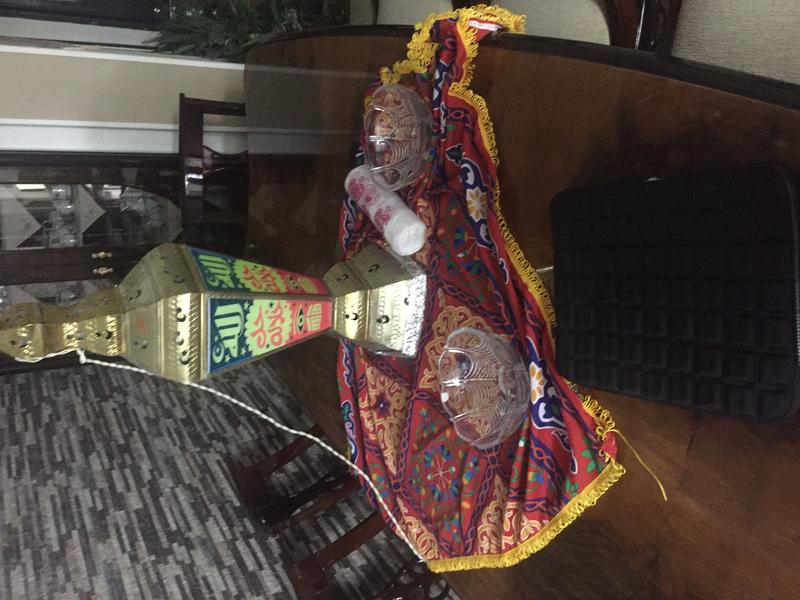cover: (542, 168, 800, 437)
